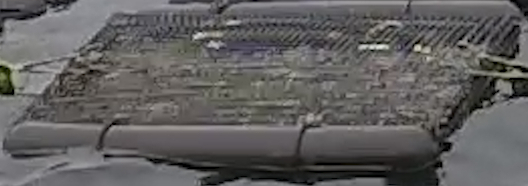bag: (5, 2, 525, 167)
